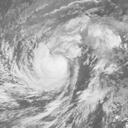cyclone: (21, 39, 73, 94)
